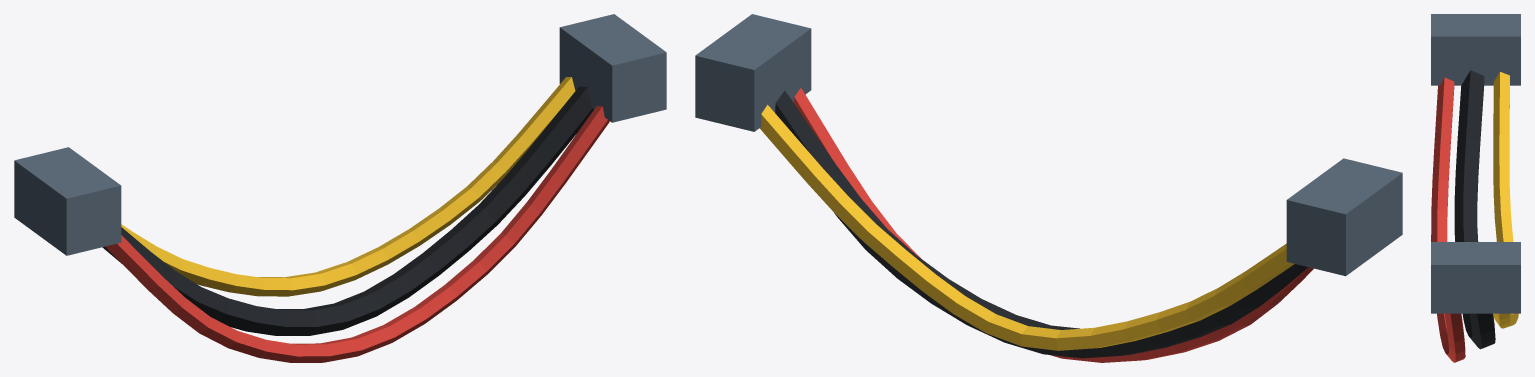
The model's file is interior_cable_bundle.glb.
3 renders of one model, left to right at view 1: azimuth 30°, elevation 25°; view 2: azimuth 150°, elevation 25°; view 3: azimuth 270°, elevation 25°, orthographic. The views are drawn at different scales.
Parts seen in each view (by area): view 1: interior_cable_bundle_steel, interior_cable_bundle_cable, interior_cable_bundle_red, interior_cable_bundle_yellow; view 2: interior_cable_bundle_steel, interior_cable_bundle_yellow, interior_cable_bundle_cable, interior_cable_bundle_red; view 3: interior_cable_bundle_steel, interior_cable_bundle_cable, interior_cable_bundle_red, interior_cable_bundle_yellow.
Boxes of the visible parts, <box> form: interior_cable_bundle_steel: <box>14,14,666,255</box>; interior_cable_bundle_cable: <box>102,86,593,335</box>; interior_cable_bundle_red: <box>105,106,609,362</box>; interior_cable_bundle_yellow: <box>121,77,575,296</box>; interior_cable_bundle_steel: <box>695,14,1402,276</box>; interior_cable_bundle_yellow: <box>759,104,1294,350</box>; interior_cable_bundle_cable: <box>775,90,1307,358</box>; interior_cable_bundle_red: <box>794,88,1313,362</box>; interior_cable_bundle_steel: <box>1431,14,1520,313</box>; interior_cable_bundle_cable: <box>1454,70,1495,349</box>; interior_cable_bundle_red: <box>1431,77,1465,362</box>; interior_cable_bundle_yellow: <box>1493,72,1518,328</box>.
Size of the model in its own units: 6.6 by 2.5 by 1.
